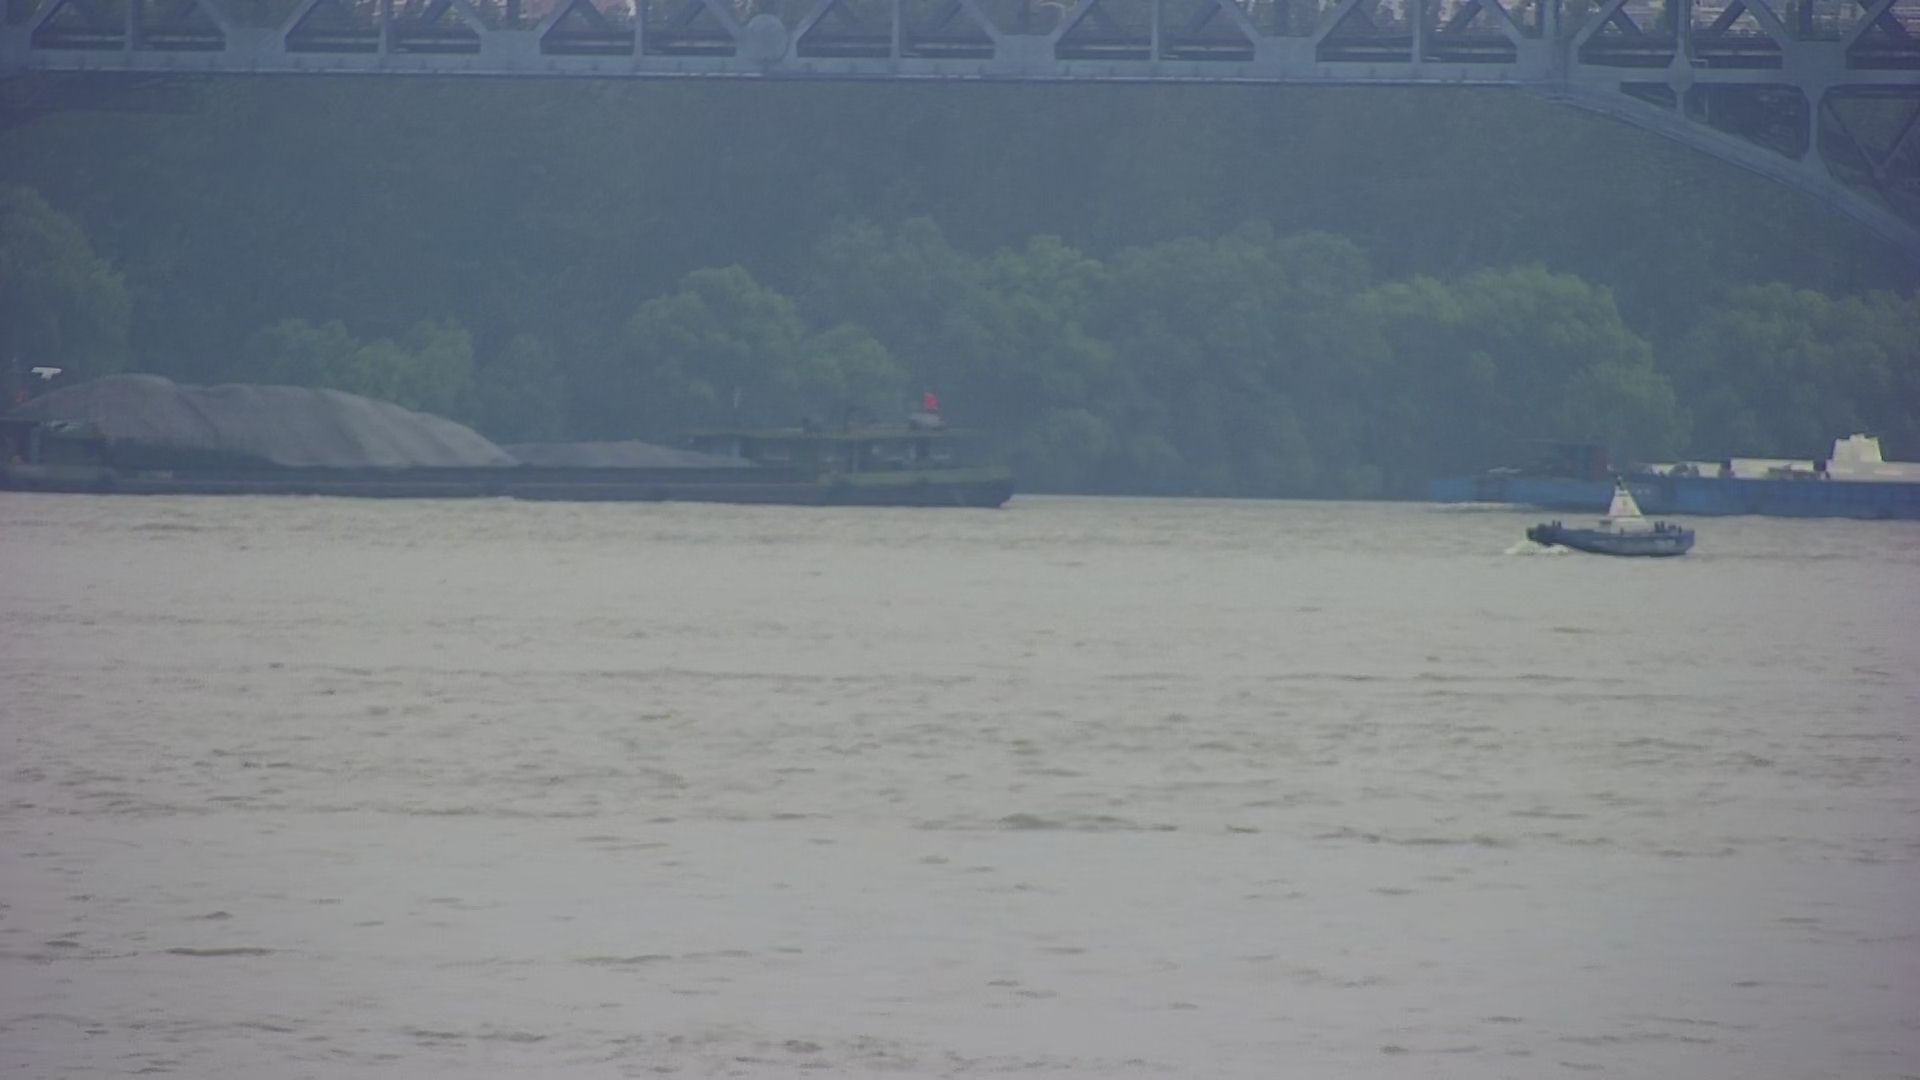boat: (1516, 473, 1702, 566)
ship: (1, 353, 1062, 514), (1431, 411, 1920, 534)
